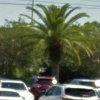Palm tree: (20, 4, 85, 72)
